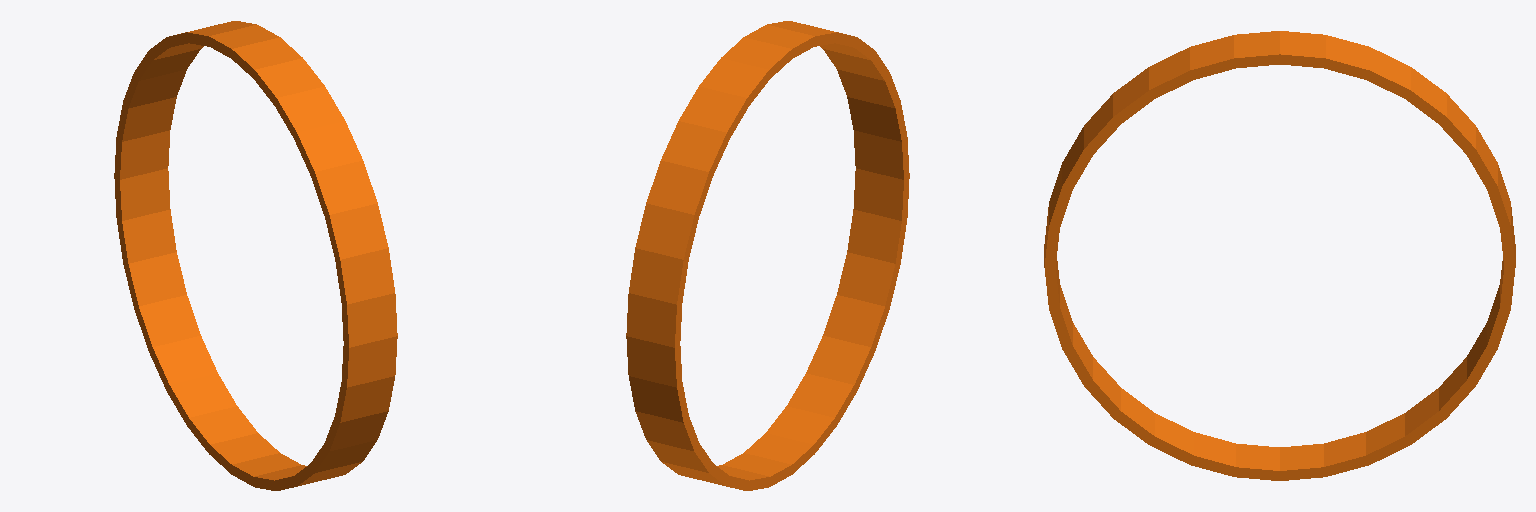
The robot description file, URDF, robot "ring":
<?xml version="1.0" ?>
<robot name="ring">

  <material name = "heritage-orange">
    <color rgba = "0.96078431 0.50980392 0.11764706 1" />
  </material>

  <link name="base" concave="yes">
    <visual>
      <origin rpy="0 0 0" xyz="0 0 0"/>
      <geometry>
        <mesh filename="ring.stl" scale="1 1 1"/>
      </geometry>
      <material name="heritage-orange"/>
    </visual>
    <collision concave="yes">
      <origin rpy="0 0 0" xyz="0 0 0"/>
      <geometry>
        <mesh filename="ring.stl" scale="1 1 1"/>
      </geometry>
    </collision>
    <inertial>
      <origin rpy="0 0 0" xyz="0 0 0"/>
      <mass value="0"/>
      <inertia ixx="0" ixy="0" ixz="0" iyy="0" iyz="0" izz="0"/>
    </inertial>
  </link>

</robot>

--- What the picture shows (computed from the rendered views, not written in the file) ---
3 views of the same robot in one strip: view 1: azimuth 30°, elevation 25°; view 2: azimuth 150°, elevation 25°; view 3: azimuth 270°, elevation 25° (orthographic).
Robot: ring — 1 links, 0 joints (none); root link base; default pose: every joint at zero.
Links seen in each view (by area): view 1: base; view 2: base; view 3: base.
Link boxes in pixels (left/top/right/bottom): base: left=114, top=21, right=397, bottom=490; base: left=626, top=21, right=909, bottom=490; base: left=1044, top=31, right=1515, bottom=480.
Size in the robot's own frame: 0.25 by 2.1 by 2.1 metres.
Meshes: 1 distinct files referenced, 1 mesh visuals loaded (1 binary STL).